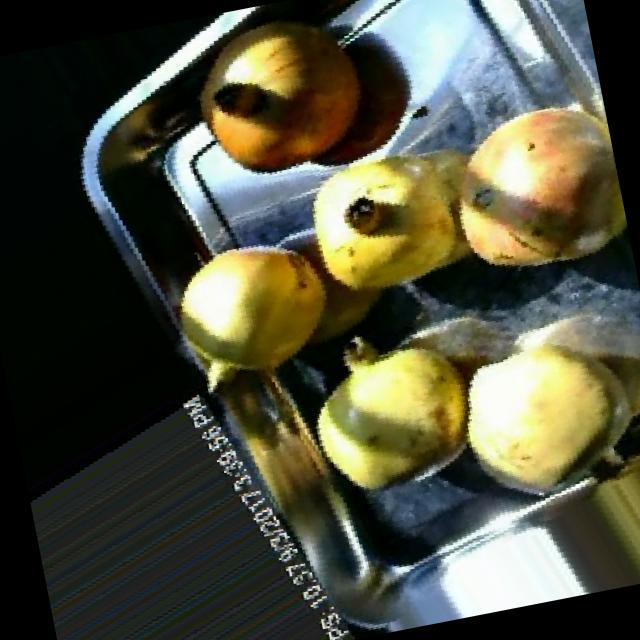fruit: (159, 0, 406, 215), (282, 304, 516, 530), (428, 305, 640, 546), (416, 76, 634, 294), (142, 209, 366, 404), (272, 130, 482, 331)
